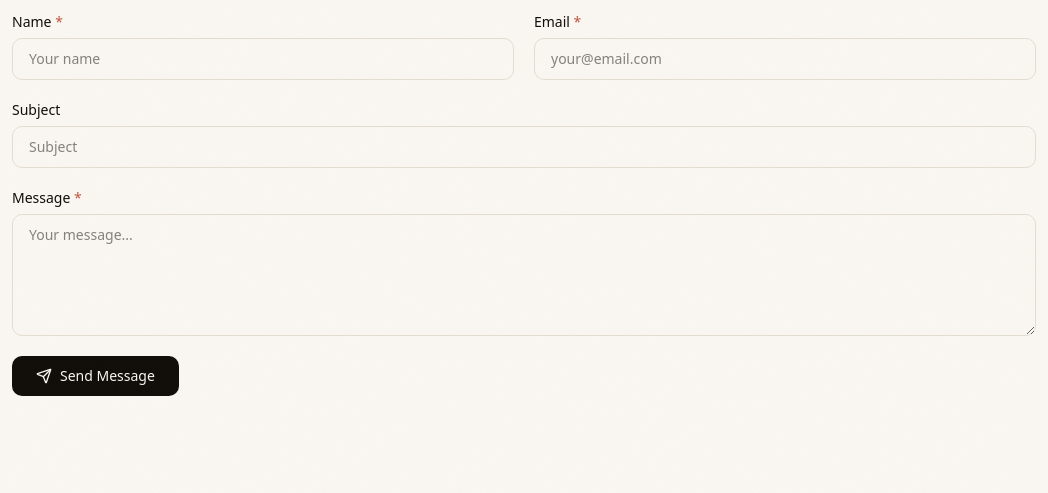
Test: ContactForm › should show rate limit error on 429
Type "Jane" into the field labelled "Name *" at x=263, y=59, box x1=12 y1=38 x2=514 y2=80
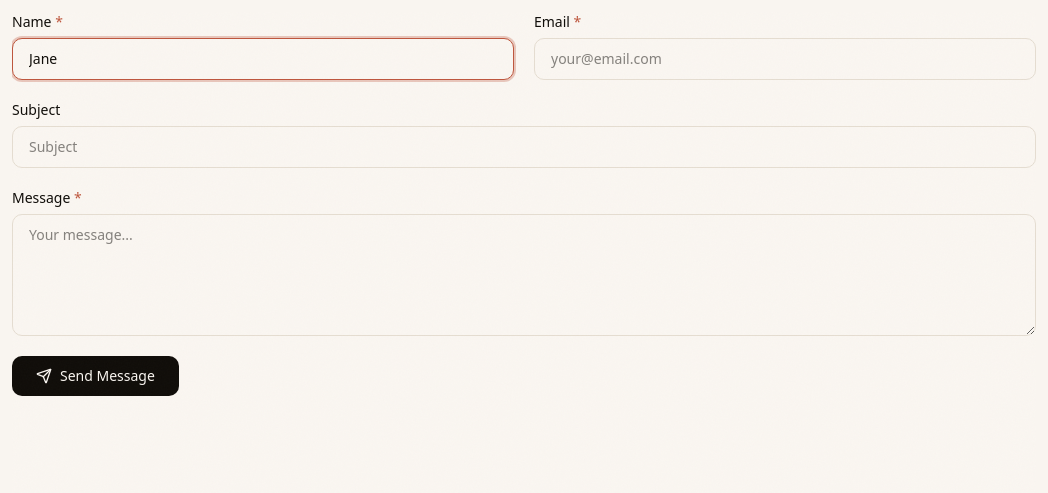
Type "jane@example.com" into the field labelled "Email *" at x=785, y=59, box x1=534 y1=38 x2=1036 y2=80
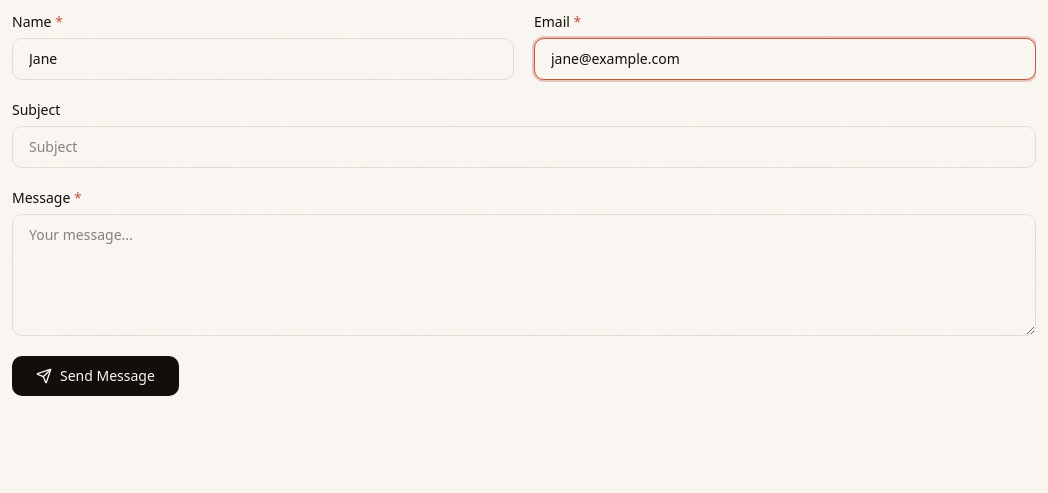
Type "This is a sufficiently long test message body." into the text box labelled "Message *" at x=524, y=275, box x1=12 y1=214 x2=1036 y2=336
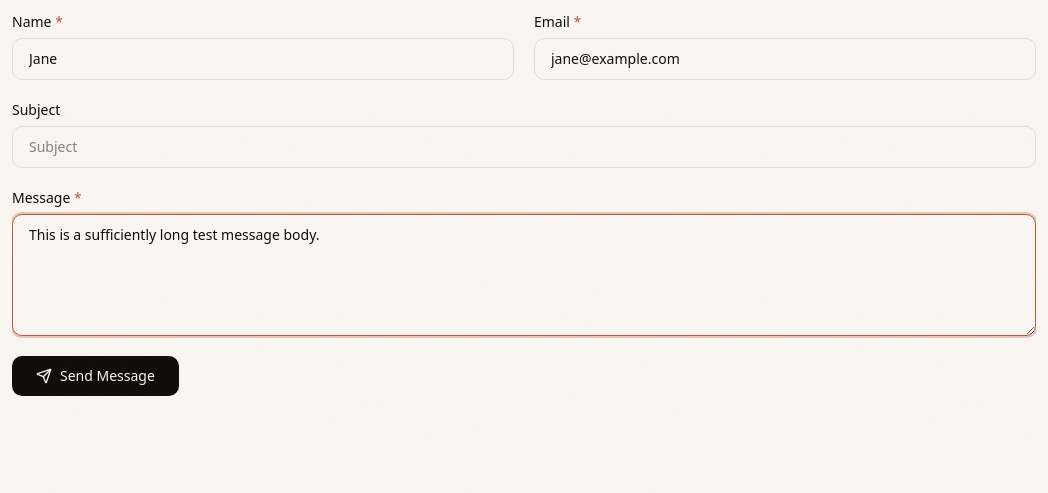
Click the button "Send Message" at x=95, y=376, box x1=12 y1=356 x2=179 y2=396
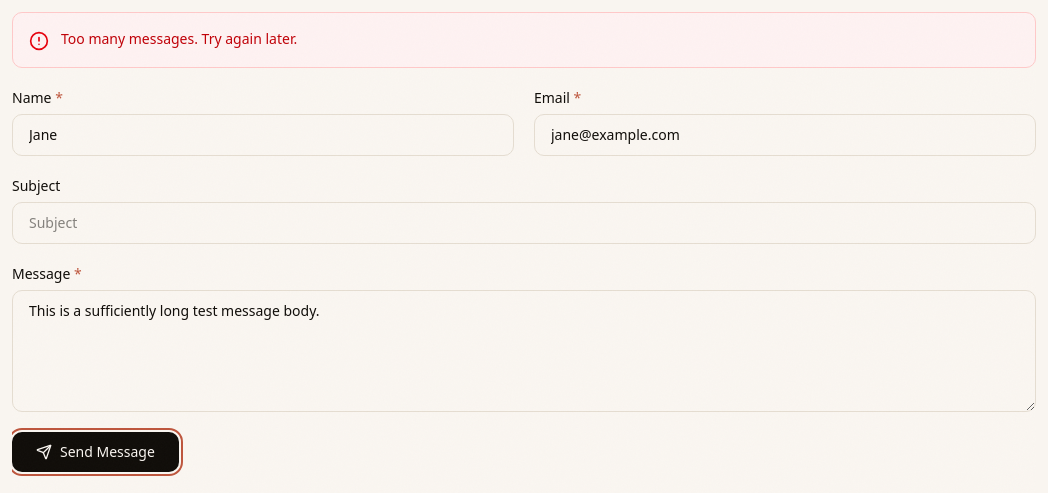
Result: the text "Too many messages. Try again later." is shown at x1=61 y1=29 x2=297 y2=49
